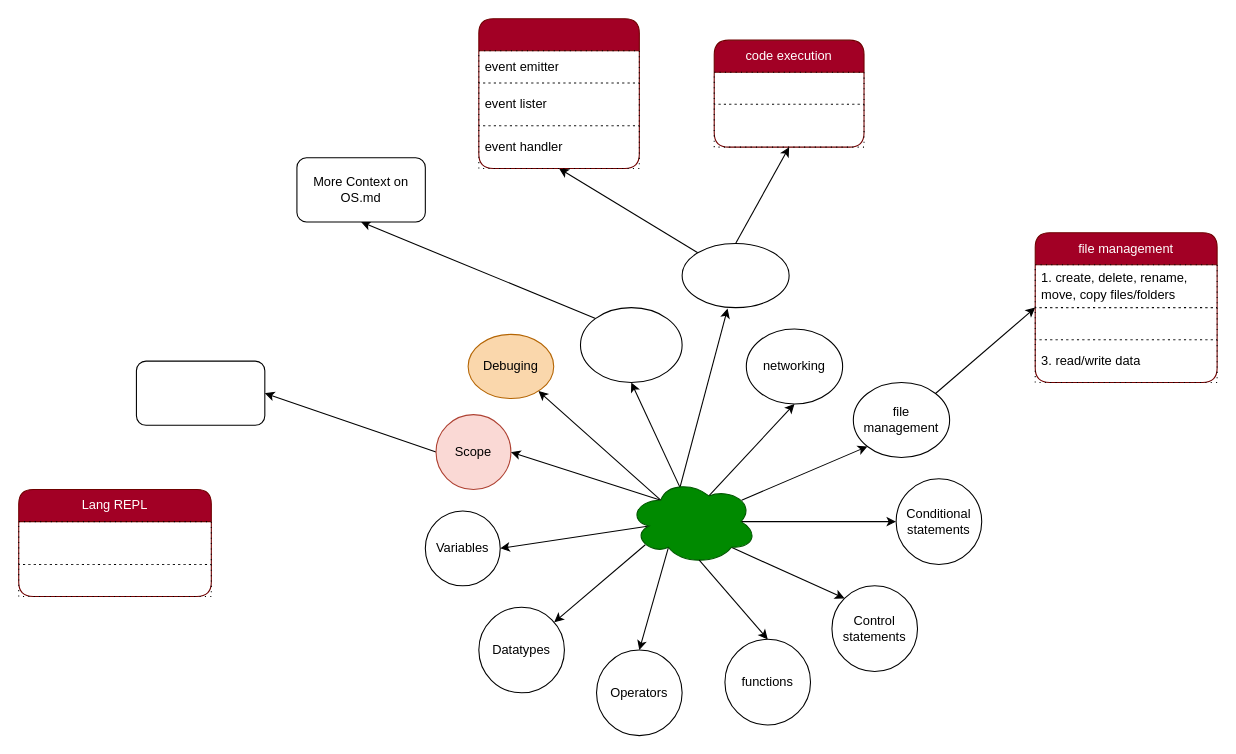
The diagram is 1236 pixels wide and 754 high, and some of its shapes have lost their labels. Here are the shapes that lost their labels. From the top down, the box of each, then its label:
(478, 18, 639, 169): event driven architecture
(713, 71, 864, 104): runtime/compile
(713, 103, 864, 147): sync vs async code execution
(681, 242, 789, 308): Architecture
(1034, 307, 1217, 340): 2. open/close file
(579, 307, 682, 383): process/thread managing
(135, 360, 265, 425): Like in node.js we have local, global, scope and block
(628, 478, 757, 564): Programning Language
(18, 521, 211, 564): In REPL, output are logged implicitly
(18, 563, 211, 597): multiline code
